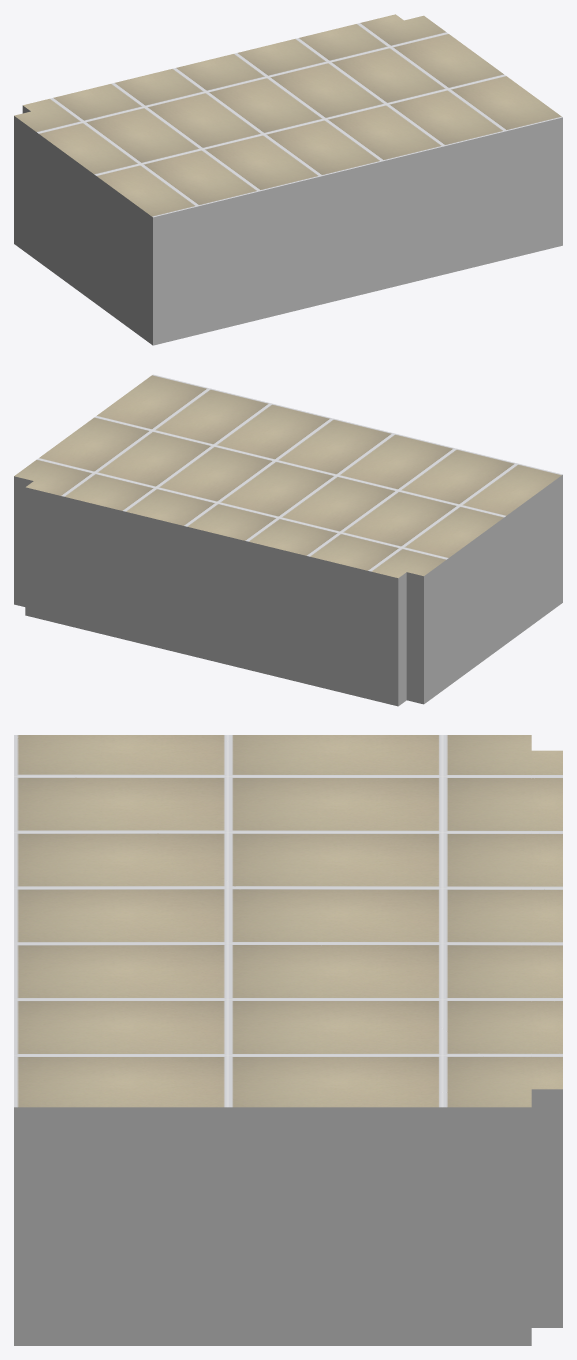
The model's file is labNoZProbs.dae.
3 renders of one model, top to bottom at view 1: azimuth 30°, elevation 25°; view 2: azimuth 150°, elevation 25°; view 3: azimuth 270°, elevation 25°, orthographic. The views are drawn at different scales.
Visible parts, largest first — view 1: Cube; view 2: Cube; view 3: Cube.
Part boxes in pixels (x1,y1,x2,y2): Cube: [14, 14, 562, 345]; Cube: [14, 374, 562, 706]; Cube: [14, 735, 562, 1345].
Bounding box in the file's own units: 9 × 5.61 × 2.69.
